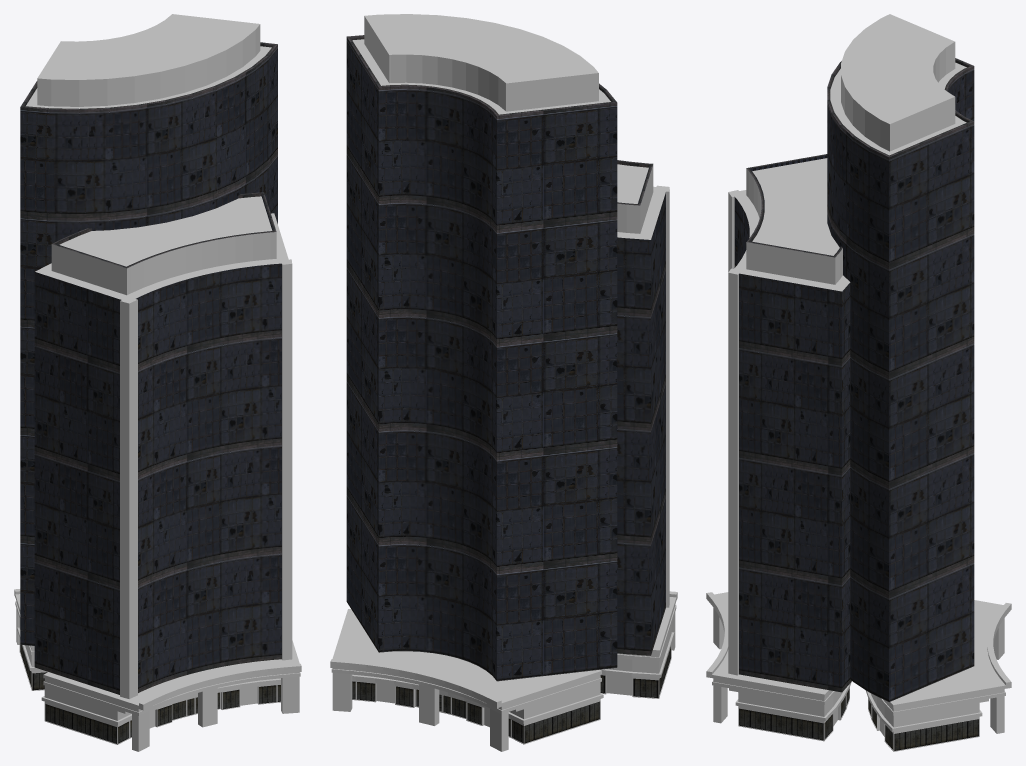
Rendered from SM_Building_03.FBX.
3 renders of one model, left to right at view 1: azimuth 30°, elevation 25°; view 2: azimuth 150°, elevation 25°; view 3: azimuth 270°, elevation 25°, orthographic. The views are drawn at different scales.
Visible parts, largest first — view 1: SM_Building_03_LOD0; view 2: SM_Building_03_LOD0; view 3: SM_Building_03_LOD0.
Part boxes in pixels (<box>): SM_Building_03_LOD0: <box>14,14,301,751</box>; SM_Building_03_LOD0: <box>330,14,677,751</box>; SM_Building_03_LOD0: <box>706,14,1011,751</box>.
Size of what is drawn, in the model's own units: 52.34 by 115 by 50.95.
